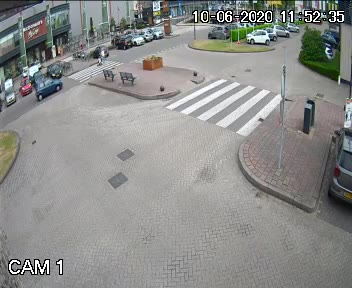car: (26, 77, 66, 101)
